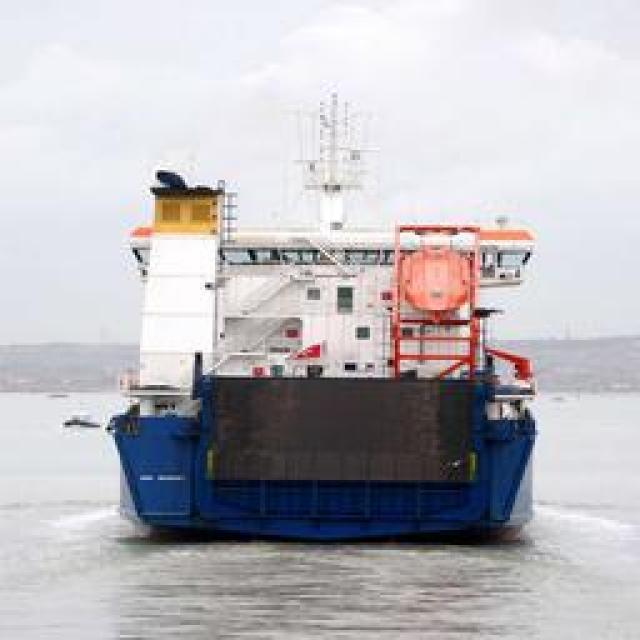ship2: (107, 84, 538, 546)
